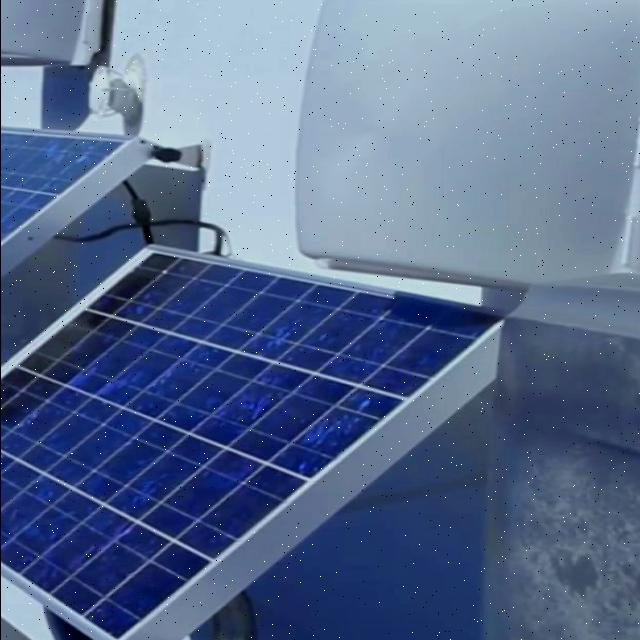Normal Solar Panel: (0, 247, 501, 640), (0, 129, 134, 253)
